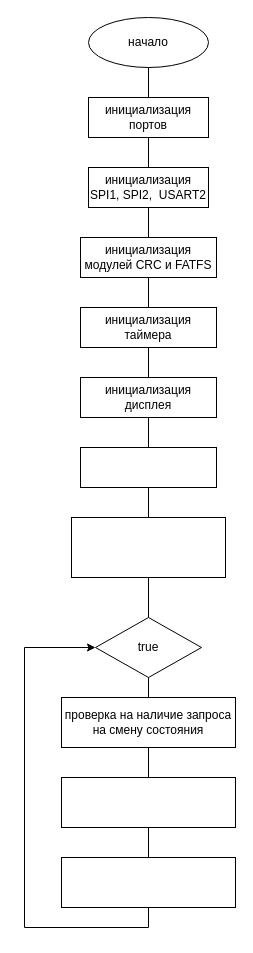
The diagram is 253 pixels wide and 953 high, and some of its shapes have lost their labels. Here are the shapes that lost their labels. From the top down, the centre of each, then its label:
At [148,467]: "создание автомата состояний state_info".
At [148,547]: "запрос для state_info на переход в состояние с выбором алгоритма".
At [148,802]: "проверка на наличие ввода с ПЭВМ".
At [148,882]: "Выполнение действия, соответствующего текущему состоянию".
